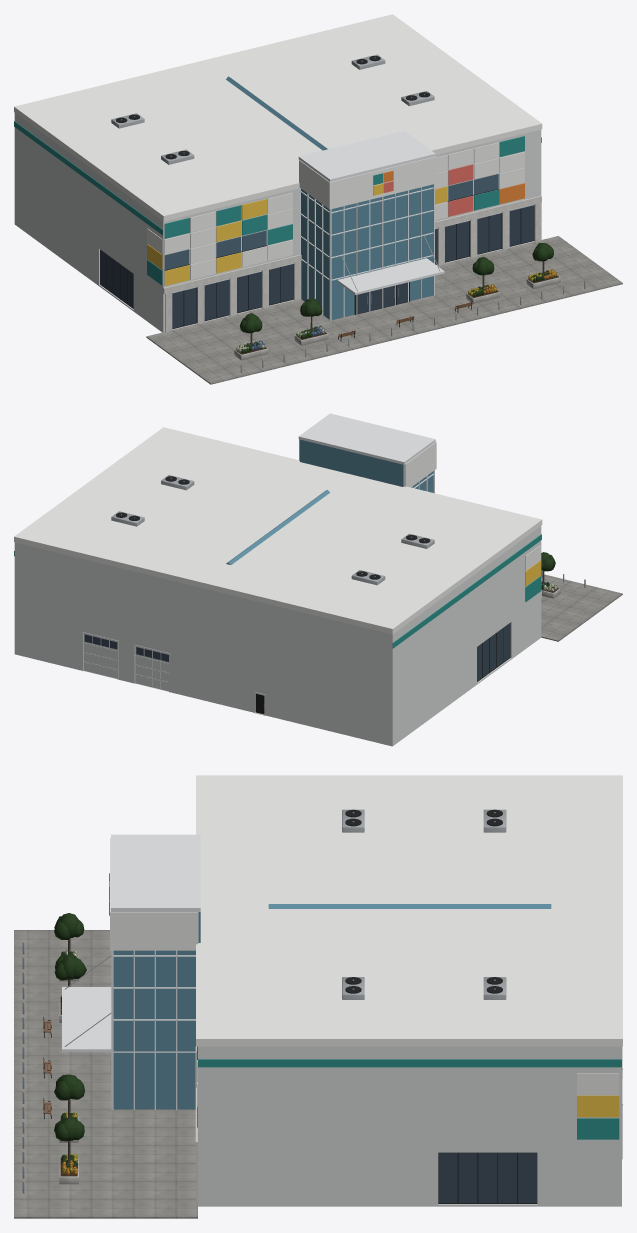
Rendered from shopping-mall.glb.
The picture shows the model from 3 angles, top to bottom: view 1: azimuth 30°, elevation 25°; view 2: azimuth 150°, elevation 25°; view 3: azimuth 270°, elevation 25°; orthographic projection. The views are drawn at different scales.
Parts seen in each view (by area): view 1: Shopping_Mall; view 2: Shopping_Mall; view 3: Shopping_Mall.
Boxes of the visible parts, left/top/right/bottom form: Shopping_Mall: left=14, top=14, right=622, bottom=384; Shopping_Mall: left=14, top=413, right=622, bottom=746; Shopping_Mall: left=14, top=775, right=622, bottom=1218.
Bounding box in the file's own units: 48 × 15.9 × 43.06.
Materials: 27 (12 with a texture image).
